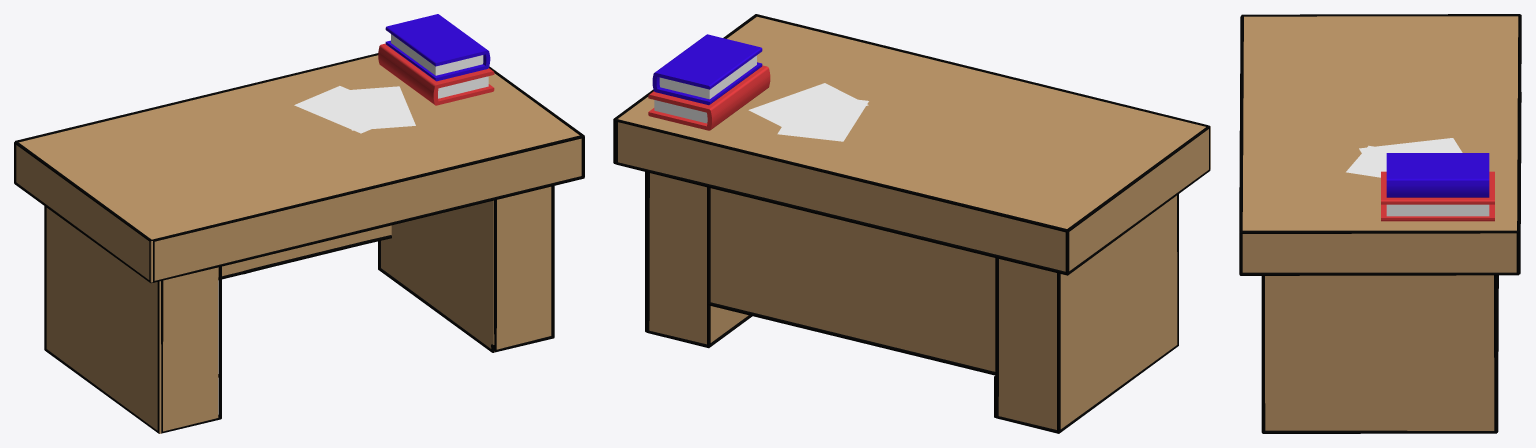
File: 2nd-Level Doctor Table With Outline.fbx
3 renders of one model, left to right at view 1: azimuth 30°, elevation 25°; view 2: azimuth 150°, elevation 25°; view 3: azimuth 270°, elevation 25°, orthographic. The views are drawn at different scales.
Visible parts, largest first — view 1: Table; view 2: Table; view 3: Table.
Boxes of the visible parts, left/top/right/bottom form: Table: left=14, top=14, right=584, bottom=433; Table: left=613, top=14, right=1210, bottom=433; Table: left=1239, top=14, right=1521, bottom=433.
Bounding box in the file's own units: 444 × 240 × 243.
